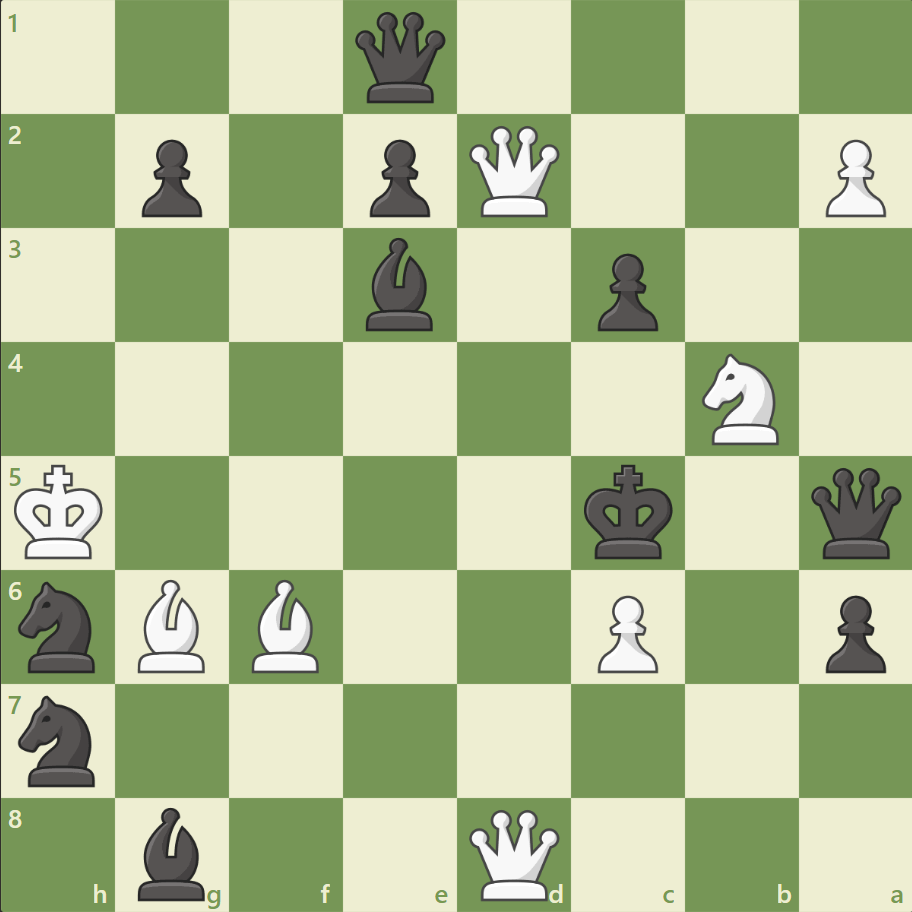B: (244, 574, 328, 676), (131, 574, 215, 676)
K: (11, 458, 111, 566)
N: (692, 348, 789, 450)
P: (588, 586, 662, 677), (815, 132, 889, 223)
Q: (464, 122, 563, 222), (464, 804, 563, 903)
b: (131, 801, 215, 904), (358, 233, 442, 336)
k: (579, 458, 679, 566)
n: (11, 688, 108, 791), (11, 575, 108, 677)
p: (133, 132, 208, 223), (815, 586, 889, 677), (588, 246, 662, 337), (361, 132, 435, 223)
q: (805, 463, 904, 562), (351, 9, 450, 108)
